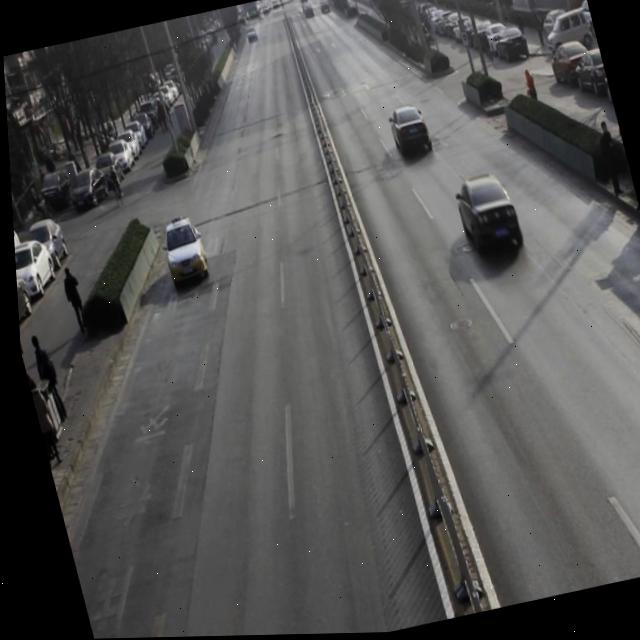car: (449, 176, 524, 263), (154, 214, 216, 301), (383, 101, 435, 162)
